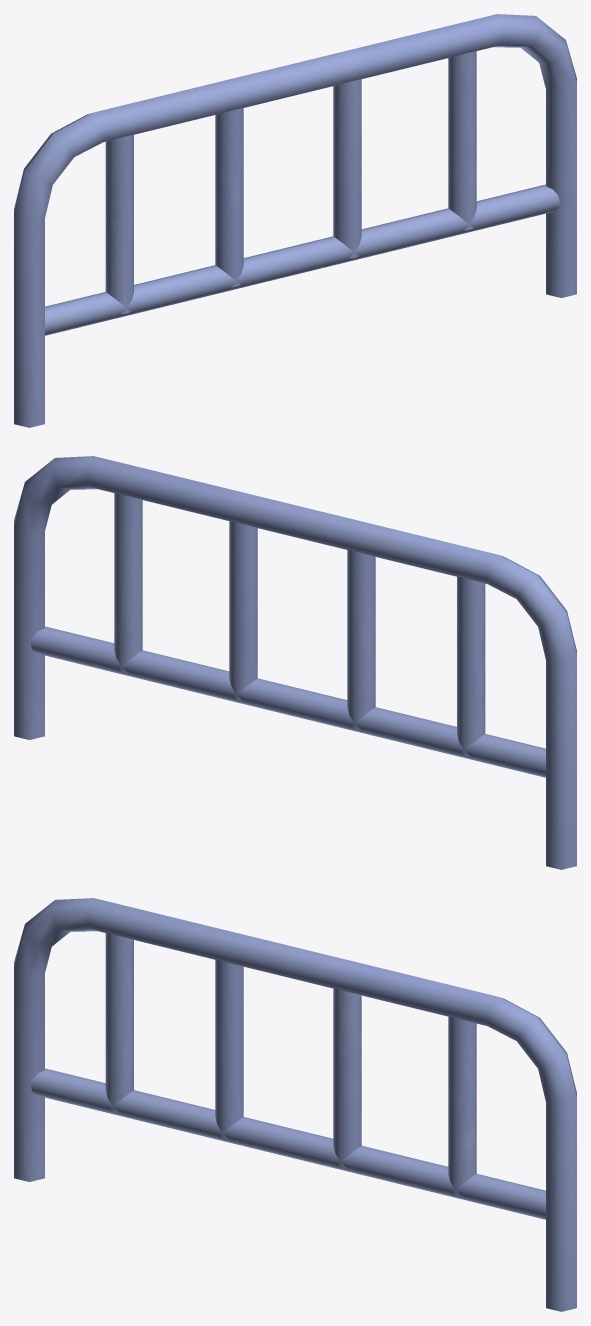
Rendered from SM_FenceMetal_01.fbx.
3 renders of one model, top to bottom at view 1: azimuth 30°, elevation 25°; view 2: azimuth 150°, elevation 25°; view 3: azimuth 330°, elevation 25°, orthographic.
Parts seen in each view (by area): view 1: SM_FenceMetal_01; view 2: SM_FenceMetal_01; view 3: SM_FenceMetal_01.
Part boxes in pixels (<box>): SM_FenceMetal_01: <box>14,14,576,427</box>; SM_FenceMetal_01: <box>14,456,576,869</box>; SM_FenceMetal_01: <box>14,898,576,1311</box>.
Bounding box in the file's own units: 269 × 133 × 12.83.
